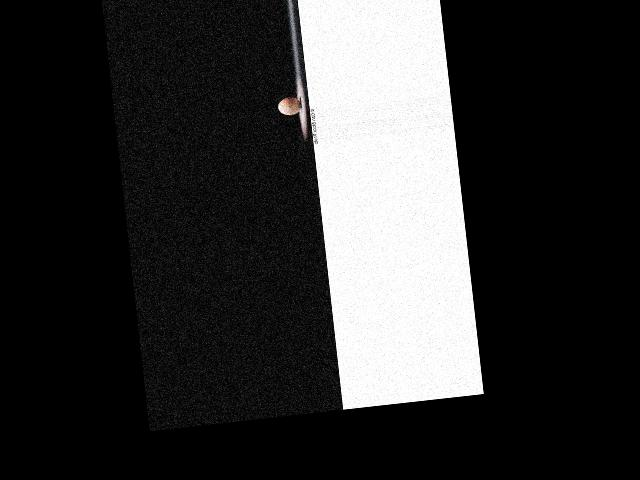egg: (277, 96, 302, 116)
